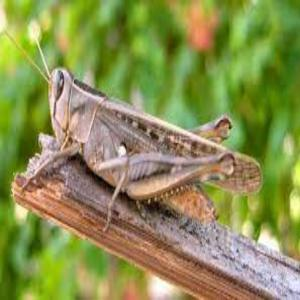locust: (34, 43, 263, 222)
